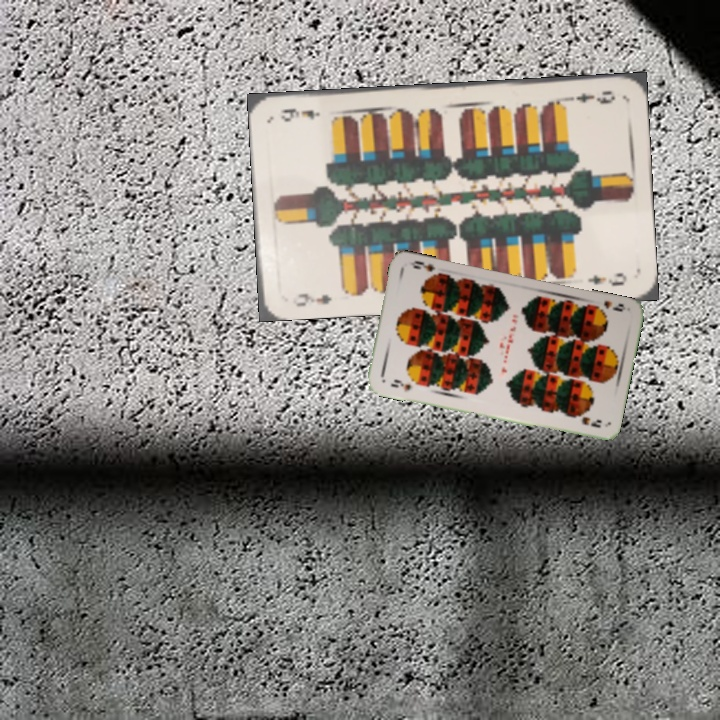E9: (562, 87, 617, 106), (291, 289, 335, 309)
S9: (588, 297, 628, 315), (387, 375, 414, 394)
